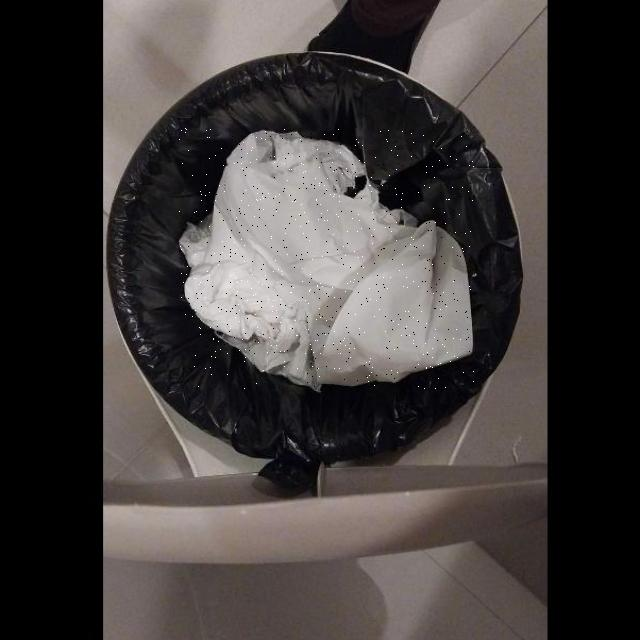paper: (179, 128, 474, 390)
